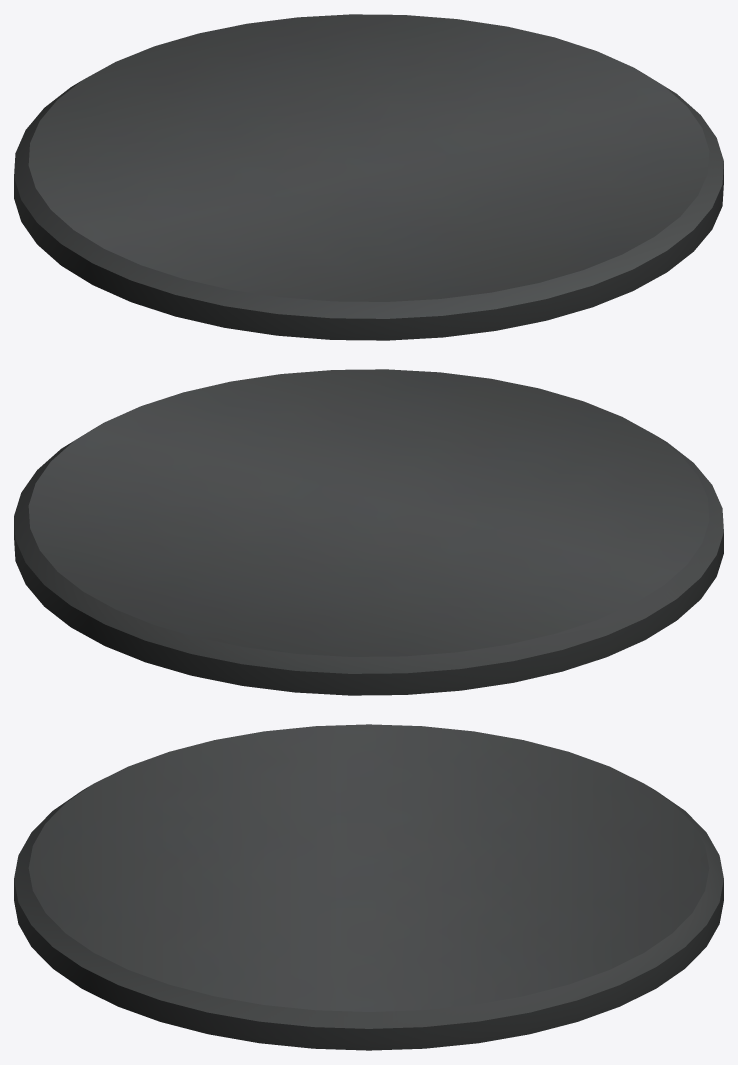
The model's file is Platform_Round_Sloped.fbx.
3 renders of one model, top to bottom at view 1: azimuth 30°, elevation 25°; view 2: azimuth 150°, elevation 25°; view 3: azimuth 270°, elevation 25°, orthographic.
Visible parts, largest first — view 1: Platform_Round_Sloped; view 2: Platform_Round_Sloped; view 3: Platform_Round_Sloped.
Boxes of the visible parts, x1,y1,x2,y2 form: Platform_Round_Sloped: (14,14,723,340); Platform_Round_Sloped: (14,369,723,695); Platform_Round_Sloped: (14,724,723,1050).
Bounding box in the file's own units: 800 × 40.22 × 800.
